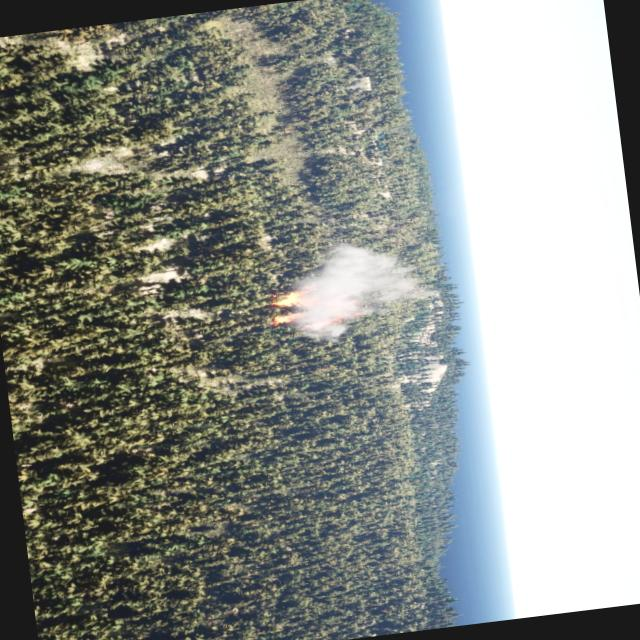fire: (262, 294, 302, 330)
smoke: (281, 234, 429, 341)
